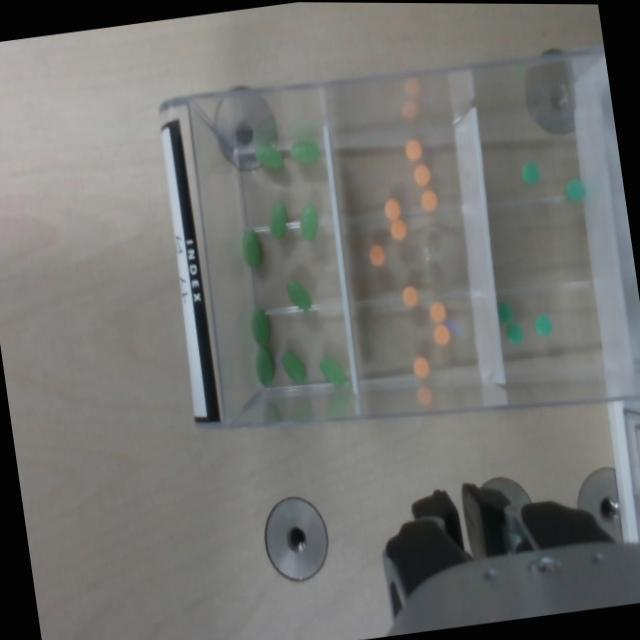famodine: (565, 178, 585, 204), (521, 161, 541, 185), (507, 322, 525, 347), (534, 313, 553, 336), (496, 302, 512, 325)
otillen_tab: (252, 140, 284, 174), (279, 348, 307, 385), (298, 201, 322, 241), (285, 277, 313, 311), (319, 354, 346, 389), (254, 346, 276, 387), (281, 349, 306, 384), (267, 199, 290, 237), (241, 228, 263, 267), (251, 308, 270, 351), (319, 355, 346, 385), (251, 308, 271, 348), (242, 229, 262, 269), (291, 137, 319, 164), (291, 139, 320, 165), (287, 280, 311, 311), (255, 144, 284, 169), (269, 201, 288, 237), (256, 347, 274, 385), (300, 204, 318, 240)
samsung_octylonium_tab: (404, 137, 424, 162), (368, 243, 388, 268), (429, 300, 448, 324), (384, 197, 402, 221), (413, 163, 431, 186), (390, 217, 408, 240), (433, 324, 451, 347), (420, 190, 439, 211), (413, 356, 430, 378), (402, 284, 418, 307)
